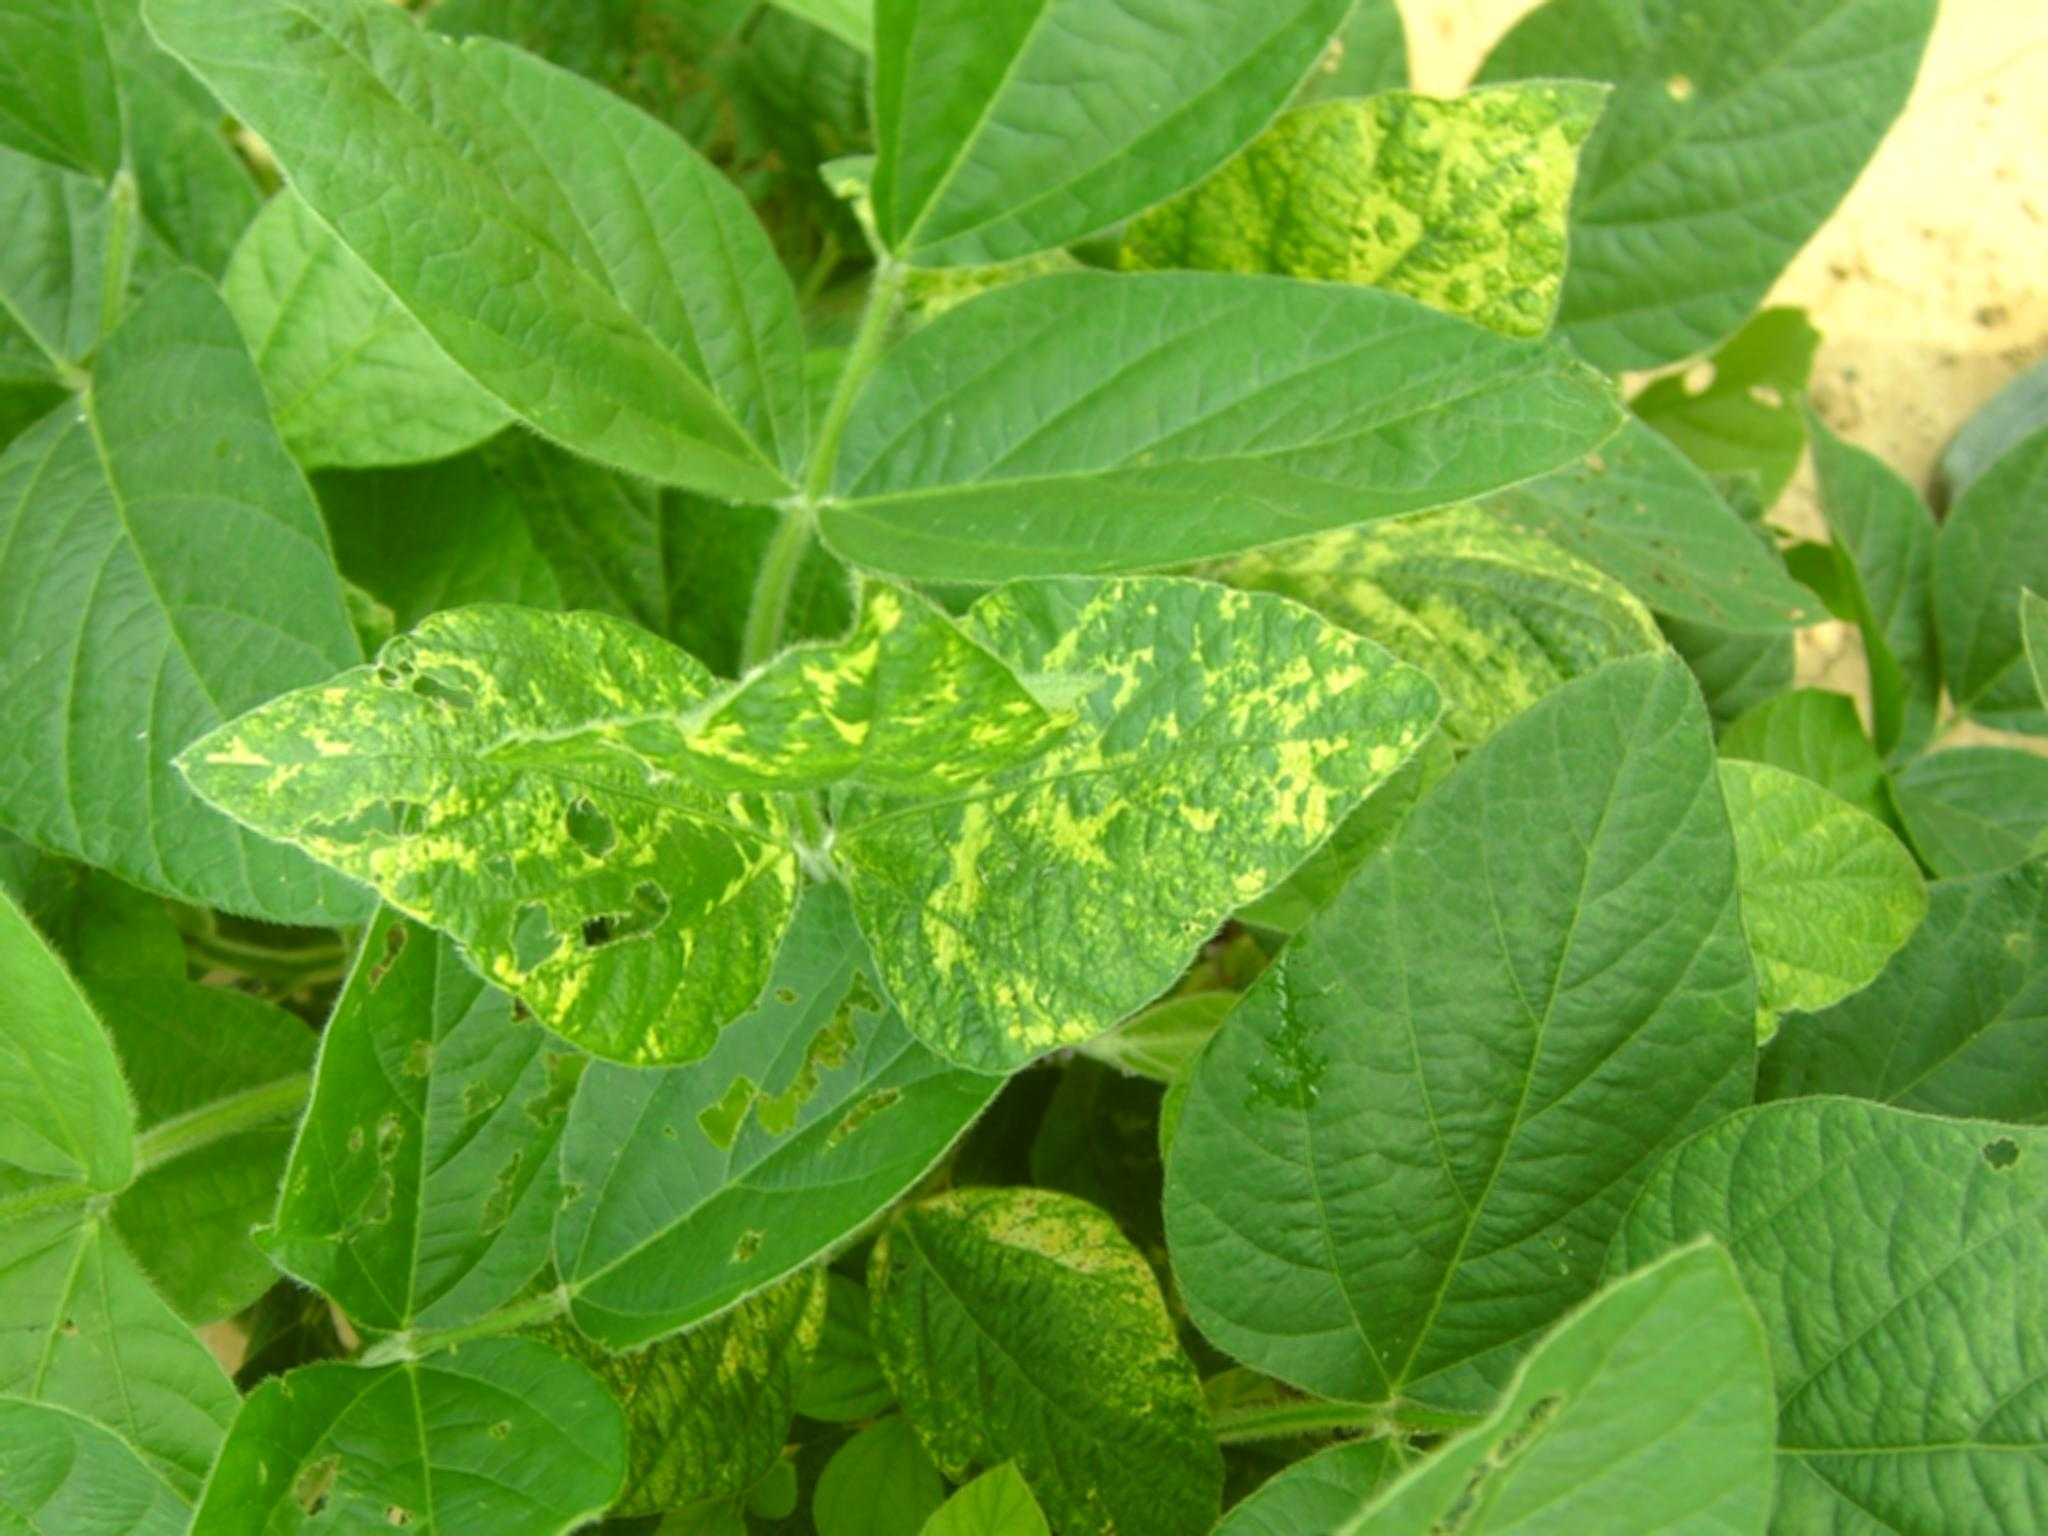Tomato leaf: (816, 257, 1595, 587)
Tomato leaf mosaic virus: (171, 578, 798, 1075), (840, 599, 1413, 1058)
